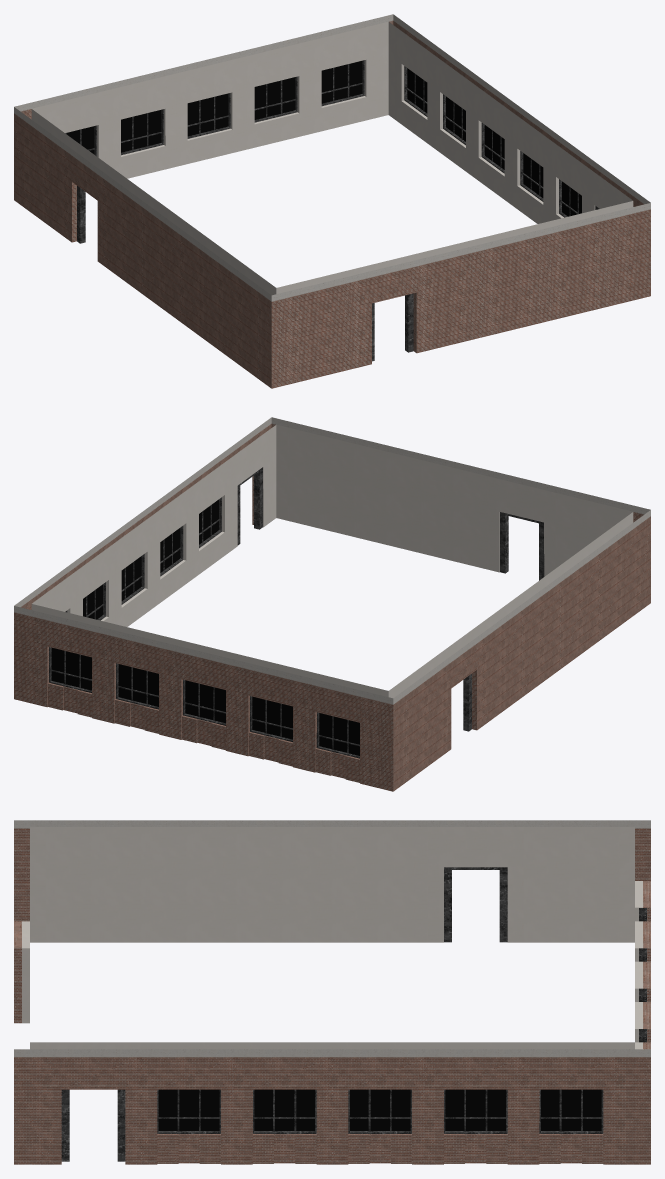
Rendered from BuildingC_Bottom_VarA.fbx.
3 views of the same model, one above another, from view 1: azimuth 30°, elevation 25°; view 2: azimuth 150°, elevation 25°; view 3: azimuth 270°, elevation 25° (orthographic). The views are drawn at different scales.
Parts seen in each view (by area): view 1: BuildingC_Bottom_VarA; view 2: BuildingC_Bottom_VarA; view 3: BuildingC_Bottom_VarA.
Boxes of the visible parts, x1=… form: BuildingC_Bottom_VarA: x1=14, y1=14, x2=650, y2=388; BuildingC_Bottom_VarA: x1=14, y1=417, x2=650, y2=791; BuildingC_Bottom_VarA: x1=14, y1=820, x2=650, y2=1164.
Bounding box in the file's own units: 1700 × 400 × 2000.
